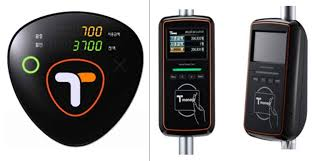terminal: (4, 8, 147, 152)
